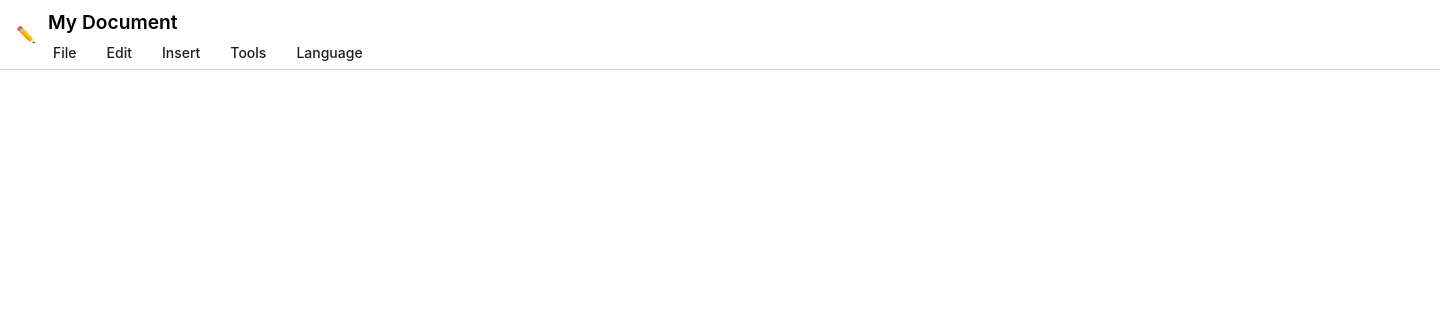
Scenario: TopBar › keeps document actions out of Tools (they live in File instead)
What coordinates should you click on to do the following:
click the button "Tools"
I would click on:
 (248, 53)
Its box is [217,37,279,69].
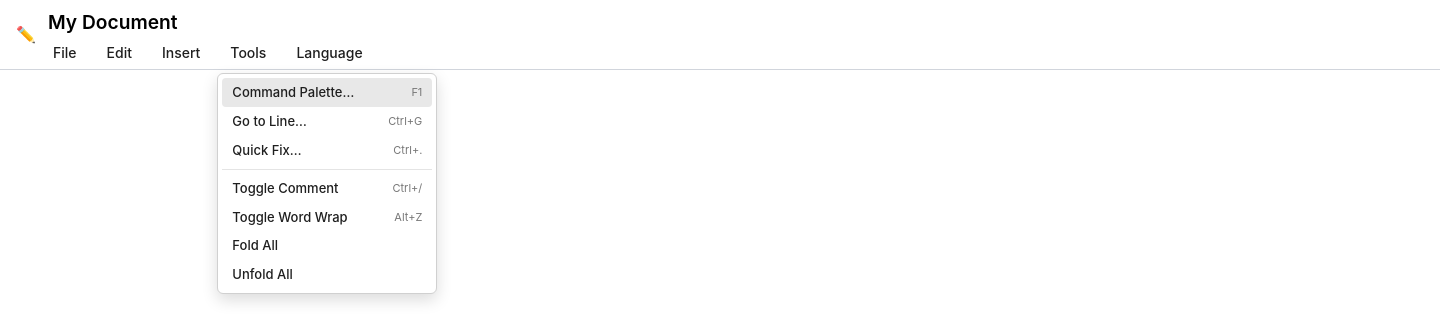
Result: the menu item "Command Palette… F1" is shown at [222,78,432,107]
